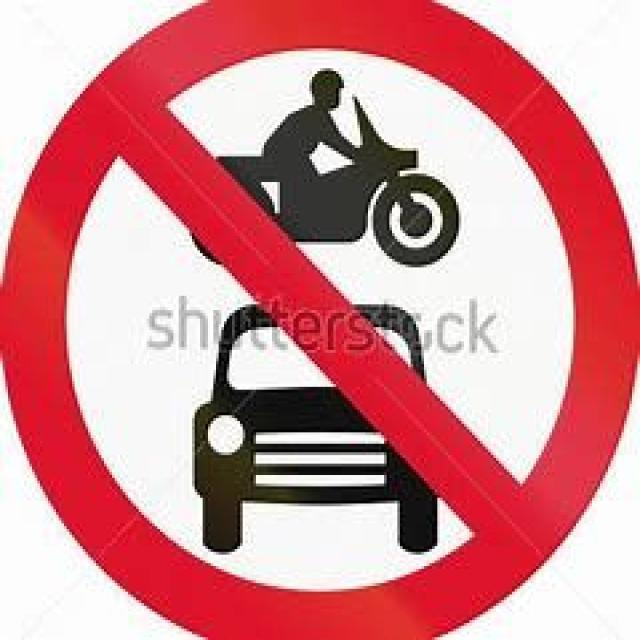all motor vehicle prohibited: (10, 8, 631, 628)
